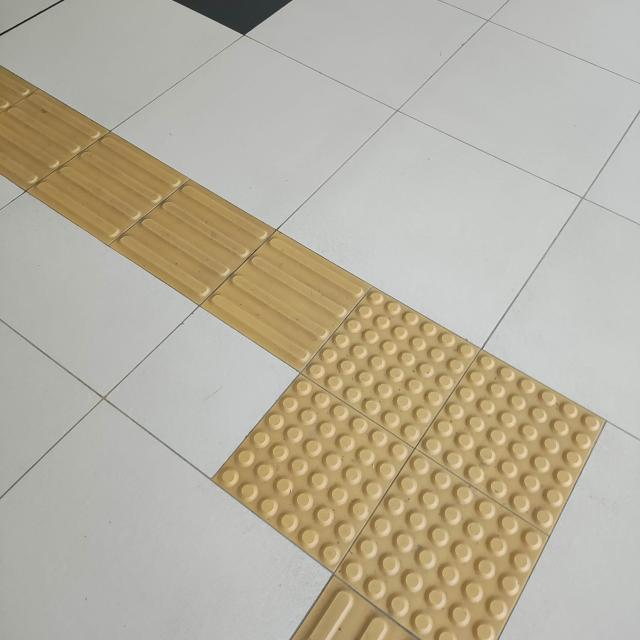kiri: (144, 129, 608, 640)
